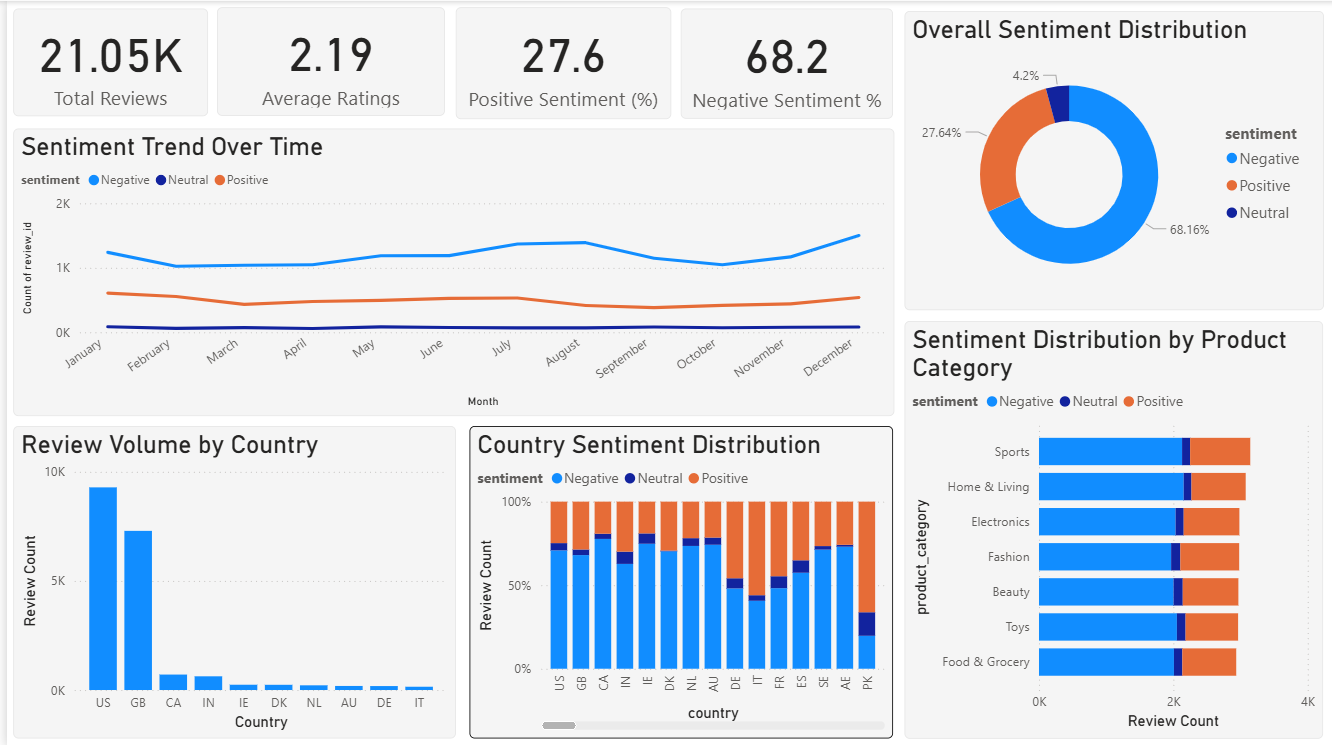

Layout of this report page (visuals, bound fields, positions):
{"tool":"powerbi","page":{"name":"Customer Sentiment Dashboard","canvas":[1280,720],"ordinal":0},"visuals":[{"type":"card","title":"Total Reviews","fields":{"Values":["CountNonNull(dashboard_dataset.review_id)"]},"box":[0,4.3,194.8,98.1],"z":0},{"type":"card","fields":{"Values":["Avg(dashboard_dataset.rating)"]},"box":[194.8,8.7,228,93.8],"z":1000},{"type":"card","fields":{"Values":["dashboard_dataset.Negative Sentiment %"]},"box":[640.6,10.1,193.3,92.3],"z":2000},{"type":"card","fields":{"Values":["dashboard_dataset.Positive Sentiment %"]},"box":[422.7,8.7,217.9,93.8],"z":3000},{"type":"donutChart","title":"Overall Sentiment Distribution","fields":{"Category":["dashboard_dataset.sentiment"],"Y":["CountNonNull(dashboard_dataset.review_id)"]},"box":[833.9,10.1,445.8,288.6],"z":4000},{"type":"lineChart","title":"Sentiment Trend Over Time","fields":{"Series":["dashboard_dataset.sentiment"],"Category":["dashboard_dataset.timestamp.Variation.Date Hierarchy.Year","dashboard_dataset.timestamp.Variation.Date Hierarchy.Month"],"Y":["CountNonNull(dashboard_dataset.review_id)"]},"box":[5.8,114,833.9,266.9],"z":5000},{"type":"barChart","title":"Sentiment Distribution by Product Category","fields":{"Category":["dashboard_dataset.product_category"],"Y":["CountNonNull(dashboard_dataset.review_id)"],"Series":["dashboard_dataset.sentiment"]},"box":[833.9,298.7,445.8,421.3],"z":6000},{"type":"clusteredColumnChart","title":"Top 10 Review Volume by Country","fields":{"Category":["dashboard_dataset.country"],"Y":["CountNonNull(dashboard_dataset.review_id)"]},"box":[0,380.9,437.8,339.9],"z":7000},{"type":"hundredPercentStackedColumnChart","title":"Sentiment Distribution by Country (Top 10)","fields":{"Y":["CountNonNull(dashboard_dataset.review_id)"],"Category":["dashboard_dataset.country"],"Series":["dashboard_dataset.sentiment"]},"box":[437.8,380.9,396.9,339.9],"z":7001}]}

Visuals, with their boxes in screenshot pixels (x1, y1, x2, y2), scaled from the page's 1280x720 canvas onto the 1332x745 screenshot:
"Total Reviews" card: BBox(0, 4, 203, 106)
card - Avg(dashboard_dataset.rating): BBox(203, 9, 440, 106)
card - dashboard_dataset.Negative Sentiment %: BBox(667, 10, 868, 106)
card - dashboard_dataset.Positive Sentiment %: BBox(440, 9, 667, 106)
"Overall Sentiment Distribution" donutChart: BBox(868, 10, 1331, 309)
"Sentiment Trend Over Time" lineChart: BBox(6, 118, 874, 394)
"Sentiment Distribution by Product Category" barChart: BBox(868, 309, 1331, 744)
"Top 10 Review Volume by Country" clusteredColumnChart: BBox(0, 394, 456, 744)
"Sentiment Distribution by Country (Top 10)" hundredPercentStackedColumnChart: BBox(456, 394, 869, 744)
